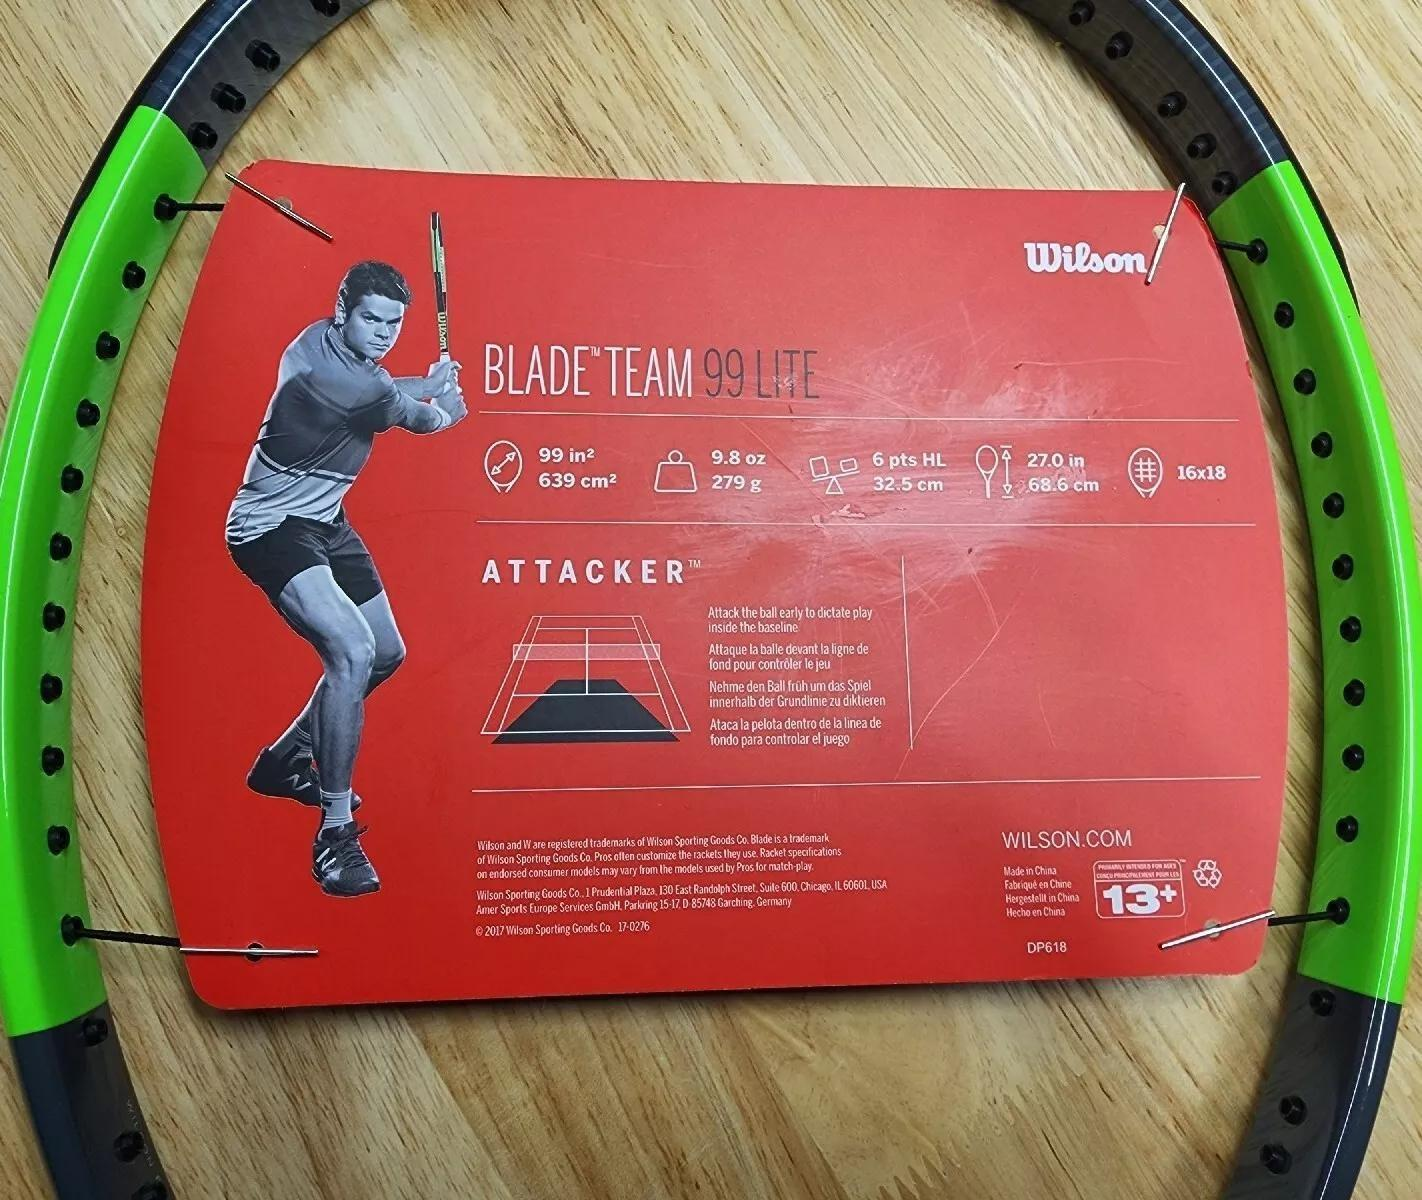Tennis-Racket: (1015, 0, 1422, 1196), (0, 0, 361, 1196)
